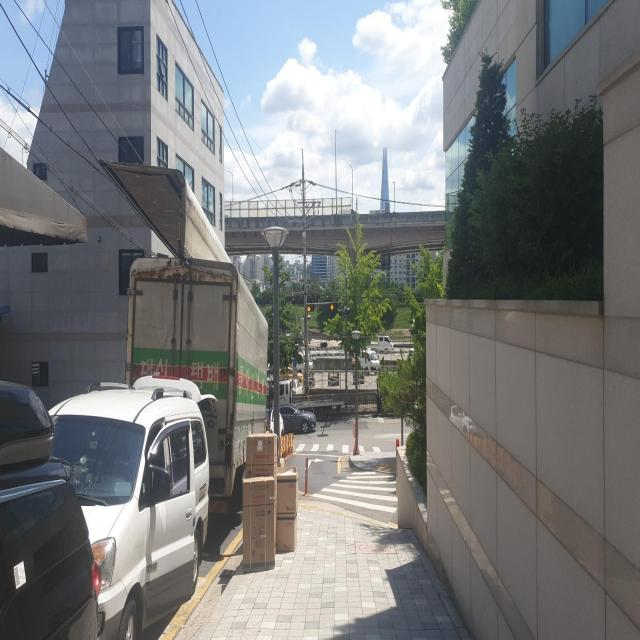횡단보도: (311, 472, 398, 514), (294, 445, 388, 453)
